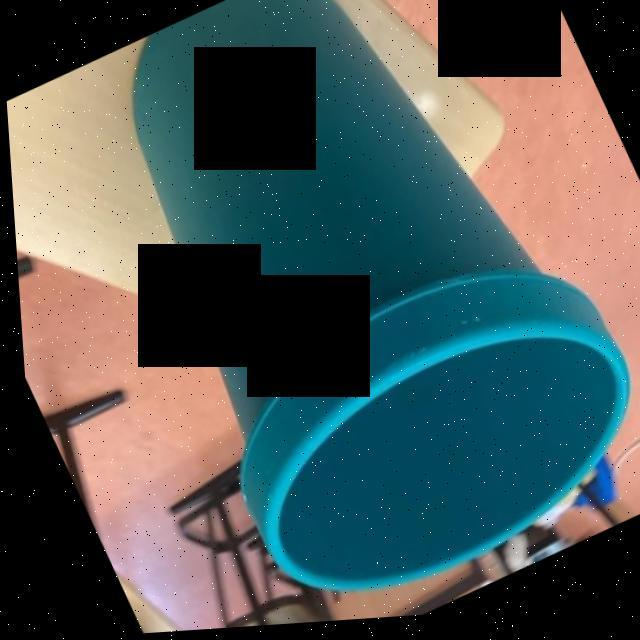bin: (19, 0, 640, 639)
